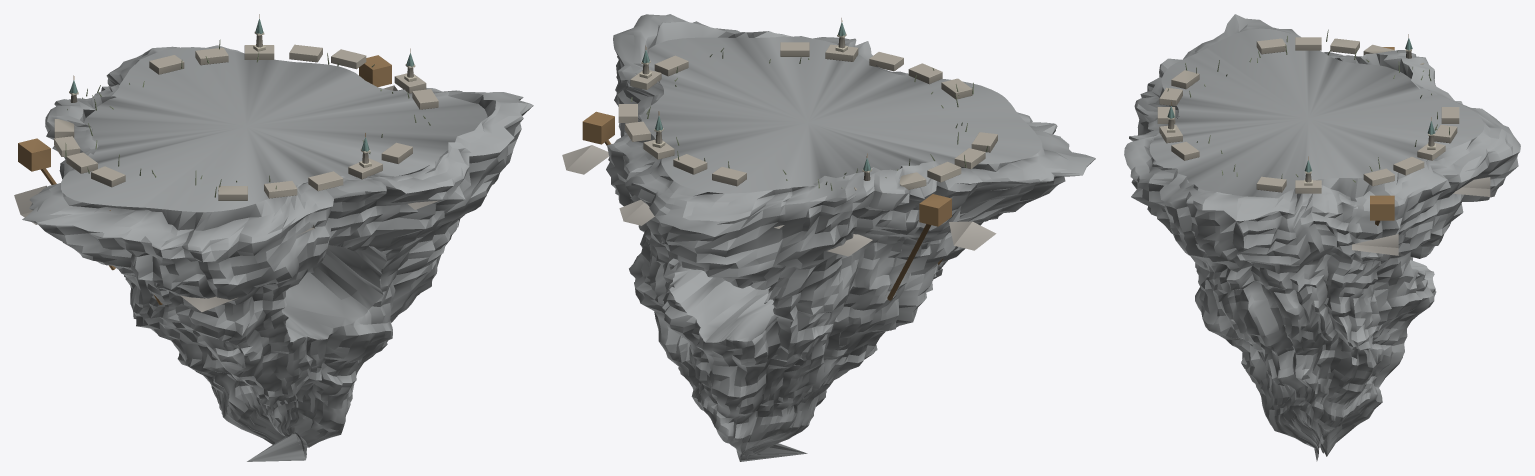
Rendered from island-grand.glb.
3 renders of one model, left to right at view 1: azimuth 30°, elevation 25°; view 2: azimuth 150°, elevation 25°; view 3: azimuth 270°, elevation 25°, orthographic. The views are drawn at different scales.
Visible parts, largest first — view 1: island-grand__rock, island-grand__limestone, island-grand__bronze, island-grand__rock_light; view 2: island-grand__rock, island-grand__limestone, island-grand__rock_light, island-grand__bronze; view 3: island-grand__rock, island-grand__limestone, island-grand__rock_light, island-grand__bronze.
Boxes of the visible parts, x1=… form: island-grand__rock: x1=22, y1=45, x2=533, y2=461; island-grand__limestone: x1=54, y1=35, x2=438, y2=200; island-grand__bronze: x1=18, y1=14, x2=410, y2=304; island-grand__rock_light: x1=14, y1=85, x2=439, y2=312; island-grand__rock: x1=606, y1=14, x2=1095, y2=461; island-grand__limestone: x1=618, y1=37, x2=997, y2=190; island-grand__rock_light: x1=562, y1=145, x2=996, y2=256; island-grand__bronze: x1=582, y1=18, x2=951, y2=300; island-grand__rock: x1=1124, y1=14, x2=1520, y2=461; island-grand__limestone: x1=1157, y1=37, x2=1459, y2=193; island-grand__rock_light: x1=1352, y1=177, x2=1490, y2=255; island-grand__bronze: x1=1171, y1=34, x2=1431, y2=225.
Bounding box in the file's own units: 328 × 253 × 258.
